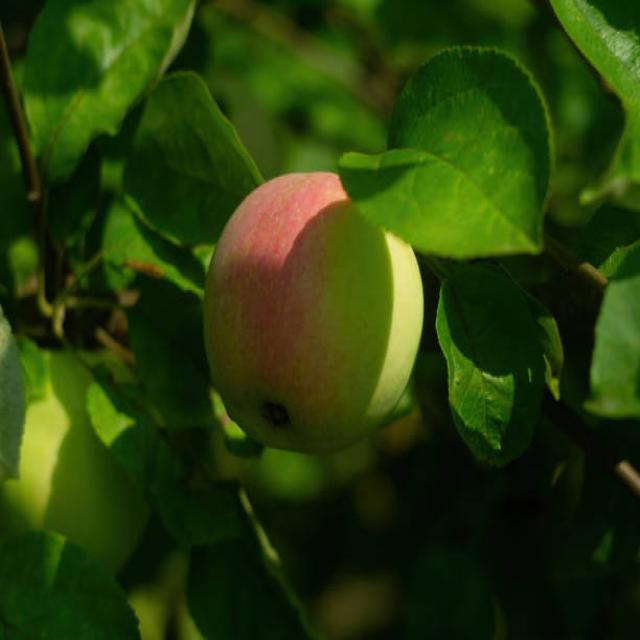Unripe: (204, 172, 425, 451)
